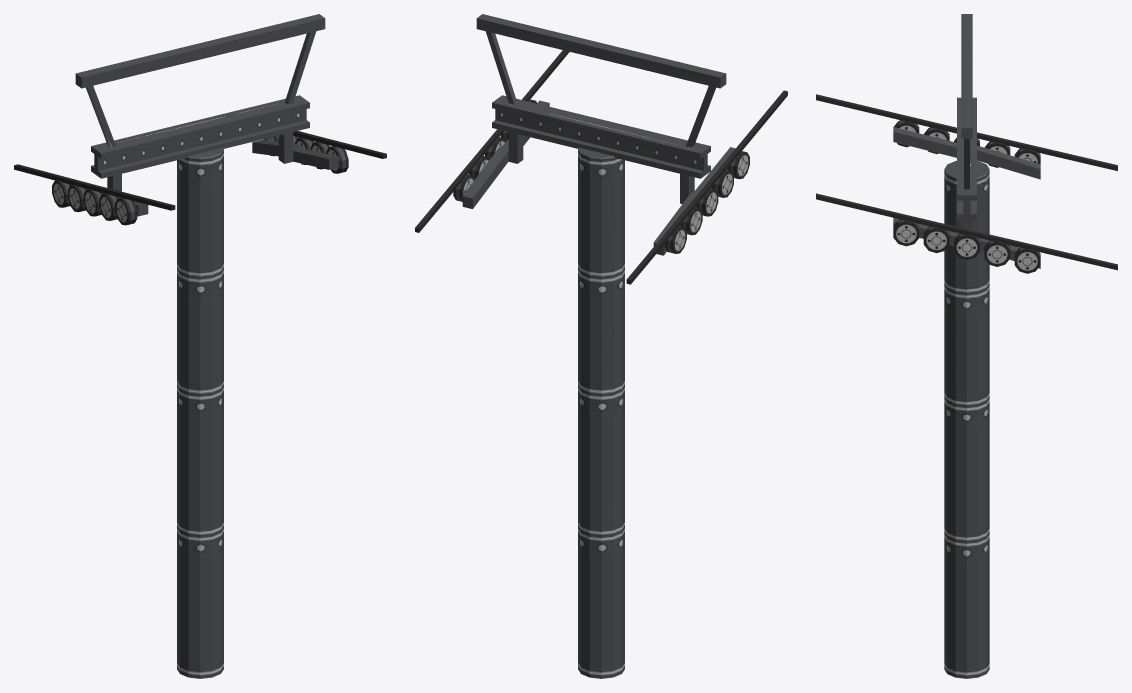
The model's file is aSFrJ2XJNyL.glb.
The picture shows the model from 3 angles, left to right: view 1: azimuth 30°, elevation 25°; view 2: azimuth 150°, elevation 25°; view 3: azimuth 270°, elevation 25°; orthographic projection. The views are drawn at different scales.
Parts seen in each view (by area): view 1: Cable11; view 2: Cable11; view 3: Cable11.
Boxes of the visible parts, x1,y1,x2,y2 form: Cable11: [14, 14, 386, 678]; Cable11: [415, 14, 787, 678]; Cable11: [816, 14, 1117, 678].
Size of the model in its own units: 0.4096 by 1 by 0.4572.
1 material, 1 textured.
